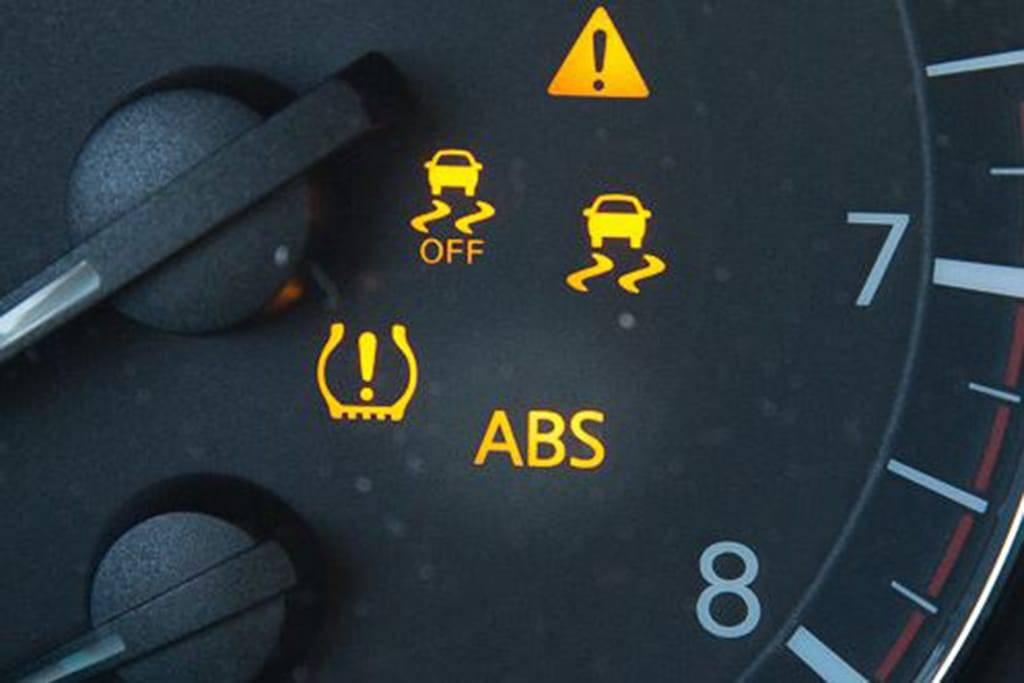ABS: (472, 401, 622, 481)
